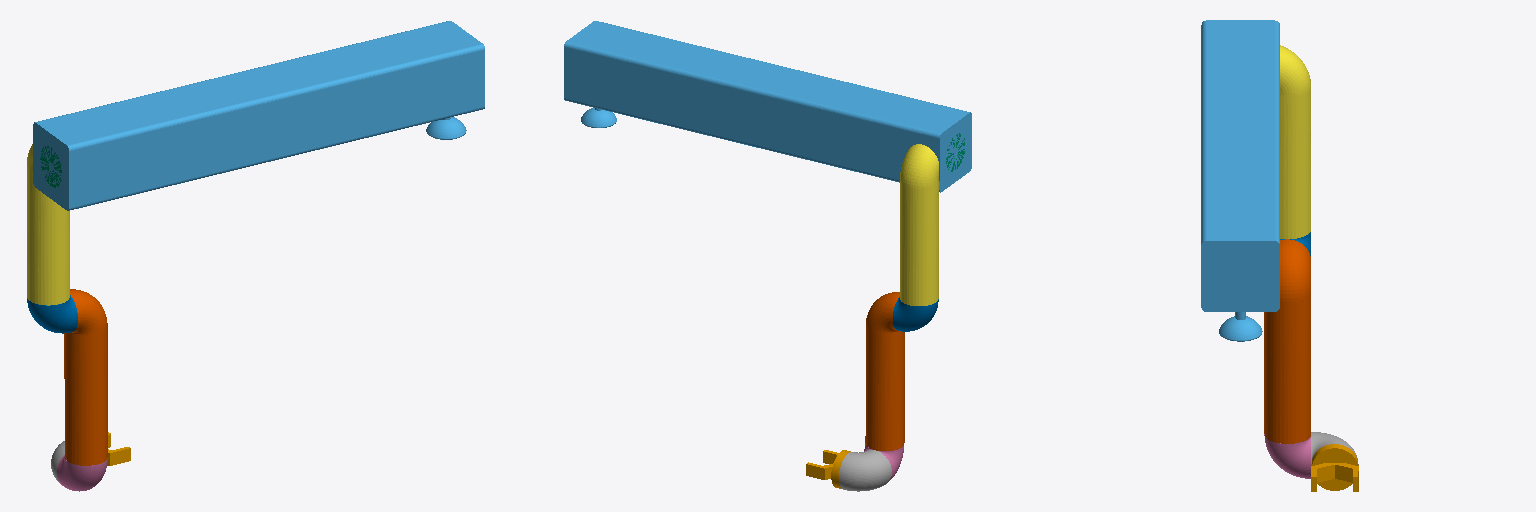
URDF robot description (7DOF_ROBOT):
<robot name="7DOF_ROBOT">
    <!-- World -->
    <link name="world"/>

    <!-- World link Base -->
    <joint name="fixed" type="fixed">
        <origin xyz="0.0 0.0 1" rpy="0.0 1.57 0.0"/>
        <parent link="world"/>
        <child link="Base"/>
    </joint>

    <!-- Base  -->
    <link name="Base">
        <visual>
            <geometry>
                <mesh filename="../meshes/Base.STL" />
            </geometry>
        </visual>
        <collision>
            <geometry>
                <mesh filename="../meshes/Base.STL"/>
            </geometry>
        </collision>
    </link>

    <!-- q1 -->
    <joint name="q1" type="revolute">
        <origin xyz="0.0 0.0 0.0" rpy="0.0 0.0 0.0"/>
        <parent link="Base"/>
        <child link="Joint1"/>
        <axis xyz="0 0 1"/>
        <limit lower="-3.14" upper="3.14" effort="1000" velocity="0.0"/>
    </joint>

    <!-- Joint1 -->
    <link name="Joint1">
        <visual>
            <geometry>
                <mesh filename="../meshes/Joint1.STL" />
            </geometry>
        </visual>
        <collision>
            <geometry>
                <mesh filename="../meshes/Joint1.STL"/>
            </geometry>
        </collision>
    </link>

    <!-- q2 -->
    <joint name="q2" type="revolute">
        <origin xyz="0.0 0.045 0.045" rpy="-1.57 0.0 0.0"/>
        <parent link="Joint1"/>
        <child link="Link1"/>
        <axis xyz="0 0 1"/>
        <limit lower="-3.14" upper="3.14" effort="1000" velocity="0.0"/>
    </joint>

    <!-- Link1  -->
    <link name="Link1">
        <visual>
            <geometry>
                <mesh filename="../meshes/Link1.STL" />
            </geometry>
        </visual>
        <collision>
            <geometry>
                <mesh filename="../meshes/Link1.STL"/>
            </geometry>
        </collision>
    </link>

    <!-- q3 -->
    <joint name="q3" type="revolute">
        <origin xyz="0.345 0.0 0.045" rpy="0.0 -1.57 3.14"/>
        <parent link="Link1"/>
        <child link="Joint2"/>
        <axis xyz="0 0 1"/>
        <limit lower="-3.14" upper="3.14" effort="1000" velocity="0.0"/>
    </joint>

    <!-- Joint2 -->
    <link name="Joint2">
        <visual>
            <geometry>
                <mesh filename="../meshes/Joint1.STL" />
            </geometry>
        </visual>
        <collision>
            <geometry>
                <mesh filename="../meshes/Joint1.STL"/>
            </geometry>
        </collision>
    </link>

    <!-- q4 -->
    <joint name="q4" type="revolute">
        <origin xyz="0.0 0.045 0.045" rpy="-1.57 -1.57 0.0"/>
        <parent link="Joint2"/>
        <child link="Link2"/>
        <axis xyz="0 0 1"/>
        <limit lower="-3.14" upper="3.14" effort="1000" velocity="0.0"/>
    </joint>

    <!-- Link2  -->
    <link name="Link2">
        <visual>
            <geometry>
                <mesh filename="../meshes/Link1.STL" />
            </geometry>
        </visual>
        <collision>
            <geometry>
                <mesh filename="../meshes/Link1.STL"/>
            </geometry>
        </collision>
    </link>

    <!-- q5 -->
    <joint name="q5" type="revolute">
        <origin xyz="0.345 0.0 0.045" rpy="0.0 1.57 0.0"/>
        <parent link="Link2"/>
        <child link="Joint3"/>
        <axis xyz="0 0 1"/>
        <limit lower="-3.14" upper="3.14" effort="1000" velocity="0.0"/>
    </joint>

    <!-- Joint3 -->
    <link name="Joint3">
        <visual>
            <geometry>
                <mesh filename="../meshes/Joint1.STL" />
            </geometry>
        </visual>
        <collision>
            <geometry>
                <mesh filename="../meshes/Joint1.STL"/>
            </geometry>
        </collision>
    </link>

    <!-- q6 -->
    <joint name="q6" type="revolute">
        <origin xyz="0.0 0.045 0.045" rpy="-1.57 1.57 0.0"/>
        <parent link="Joint3"/>
        <child link="Joint4"/>
        <axis xyz="0 0 1"/>
        <limit lower="-3.14" upper="3.14" effort="1000" velocity="0.0"/>
    </joint>

    <!-- Joint4 -->
    <link name="Joint4">
        <visual>
            <geometry>
                <mesh filename="../meshes/Joint1.STL" />
            </geometry>
        </visual>
        <collision>
            <geometry>
                <mesh filename="../meshes/Joint1.STL"/>
            </geometry>
        </collision>
    </link>

    <!-- q7 -->
    <joint name="q7" type="revolute">
        <origin xyz="0.0 0.045 0.045" rpy="-1.57 1.57 0.0"/>
        <parent link="Joint4"/>
        <child link="Gripper"/>
        <axis xyz="0 0 1"/>
        <limit lower="-3.14" upper="3.14" effort="1000" velocity="0.0"/>
    </joint>

    <!-- Gripper -->
    <link name="Gripper">
        <visual>
            <geometry>
                <mesh filename="../meshes/Gripper.STL" />
            </geometry>
        </visual>
        <collision>
            <geometry>
                <mesh filename="../meshes/Gripper.STL"/>
            </geometry>
        </collision>
    </link>

</robot>

--- What the picture shows (computed from the rendered views, not written in the file) ---
The picture shows the robot from 3 angles, left to right: view 1: azimuth 30°, elevation 25°; view 2: azimuth 150°, elevation 25°; view 3: azimuth 270°, elevation 25°; orthographic projection.
Model 7DOF_ROBOT with 9 links and 8 joints (7 revolute, 1 fixed), rooted at world, posed all joints at 0.
Visible links, largest first — view 1: Base, Link2, Link1, Joint2, Joint3; view 2: Base, Link1, Link2, Joint4, Joint2, Gripper; view 3: Base, Link2, Link1, Gripper, Joint3.
Link boxes in pixels (x1,y1,x2,y2): Base: [33, 21, 484, 210]; Link2: [64, 289, 107, 465]; Link1: [27, 144, 69, 305]; Joint2: [27, 295, 77, 333]; Joint3: [57, 455, 107, 491]; Base: [564, 21, 971, 192]; Link1: [900, 144, 938, 305]; Link2: [865, 292, 904, 450]; Joint4: [839, 450, 891, 491]; Joint2: [893, 297, 938, 331]; Gripper: [806, 450, 850, 488]; Base: [1201, 20, 1279, 341]; Link2: [1264, 239, 1310, 443]; Link1: [1280, 45, 1310, 238]; Gripper: [1311, 444, 1358, 491]; Joint3: [1264, 434, 1310, 478].
Size in the robot's own frame: 1 by 0.3005 by 0.9005 metres.
8 mesh visuals loaded from 4 distinct referenced files (4 binary STL).